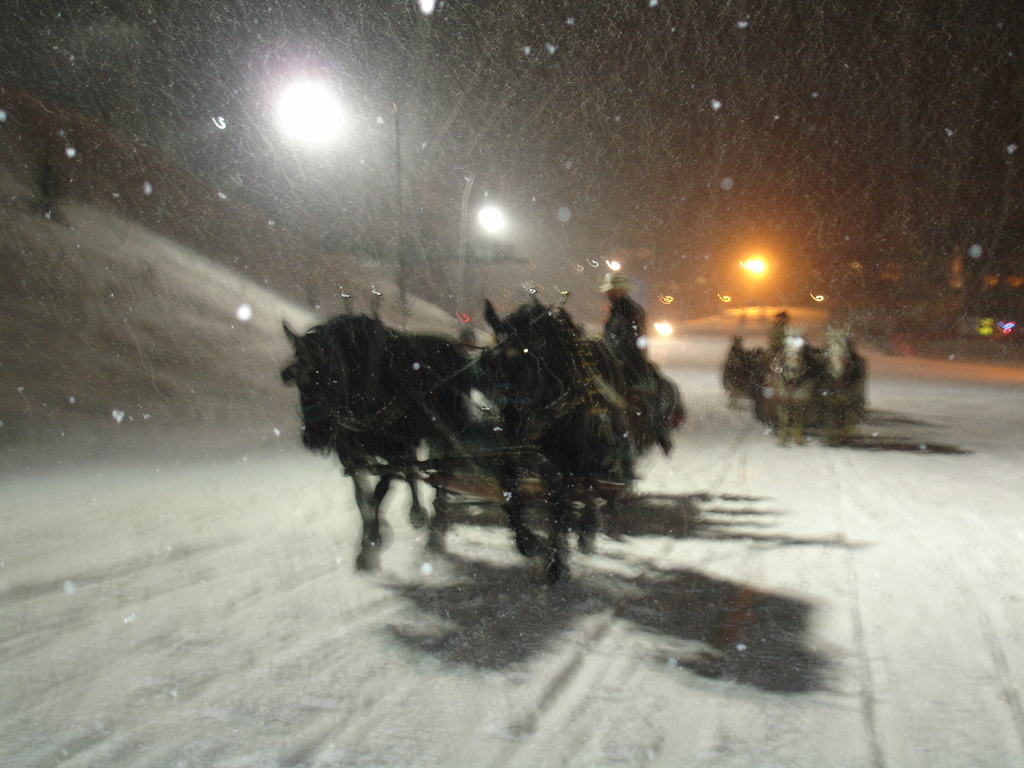Animal: (274, 307, 470, 573), (472, 288, 625, 598), (812, 314, 861, 451), (765, 327, 815, 446)
